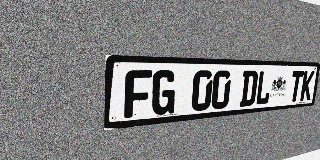0: (191, 70, 214, 112), (210, 70, 232, 110)
D: (239, 71, 259, 107)
F: (124, 70, 152, 118)
G: (151, 70, 177, 116)
K: (300, 71, 315, 101)
L: (255, 71, 273, 105)
T: (288, 71, 304, 102)
